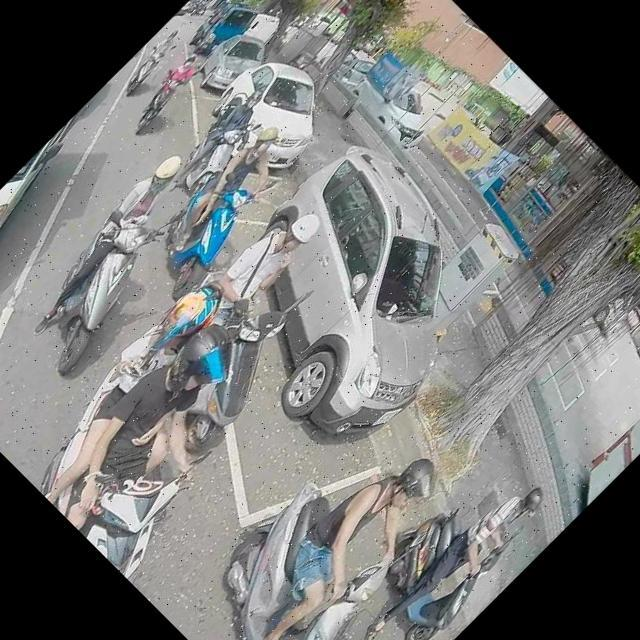person: (14, 279, 270, 535), (38, 318, 288, 568), (218, 429, 470, 640), (11, 144, 210, 343), (359, 462, 563, 640), (159, 116, 307, 264), (185, 193, 332, 341), (159, 78, 273, 192), (128, 48, 209, 129), (124, 25, 188, 89)
